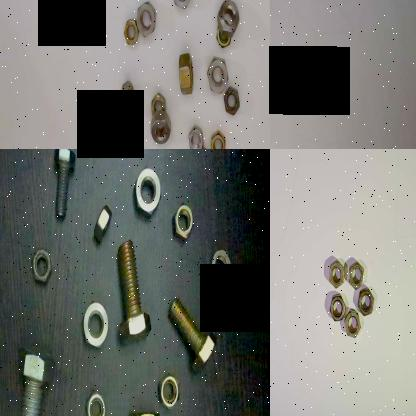Bolts: (167, 289, 221, 378), (111, 229, 151, 348), (11, 340, 55, 416), (51, 149, 77, 227)
NUTS: (132, 162, 164, 216), (81, 296, 111, 350), (88, 203, 112, 255), (175, 45, 196, 99), (204, 52, 232, 92), (28, 242, 52, 286), (148, 107, 172, 147), (171, 202, 195, 242), (118, 74, 138, 120), (156, 372, 180, 410), (208, 248, 232, 286), (216, 0, 240, 37), (218, 84, 242, 118), (134, 0, 156, 37), (342, 304, 362, 340), (83, 384, 105, 416), (120, 14, 138, 50), (214, 20, 233, 54), (354, 286, 374, 316), (326, 257, 344, 289), (346, 258, 364, 288), (328, 290, 344, 322), (147, 91, 167, 116), (186, 123, 204, 149), (209, 129, 228, 149), (127, 407, 161, 416), (170, 0, 192, 9), (194, 140, 212, 149)
